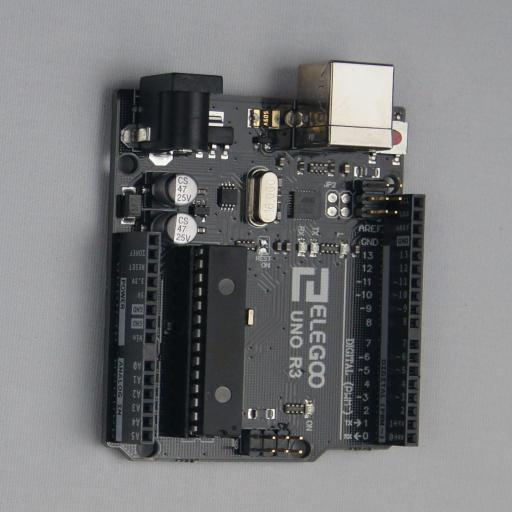Arduino Uno -Black-: (88, 60, 425, 463)
